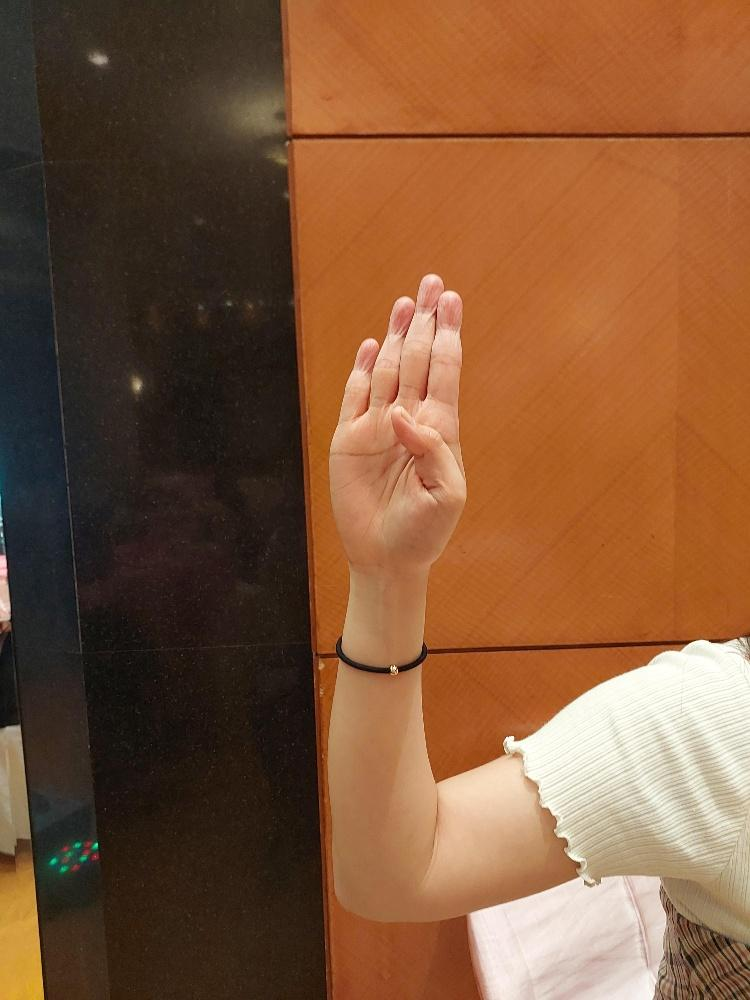b: (326, 271, 471, 581)
